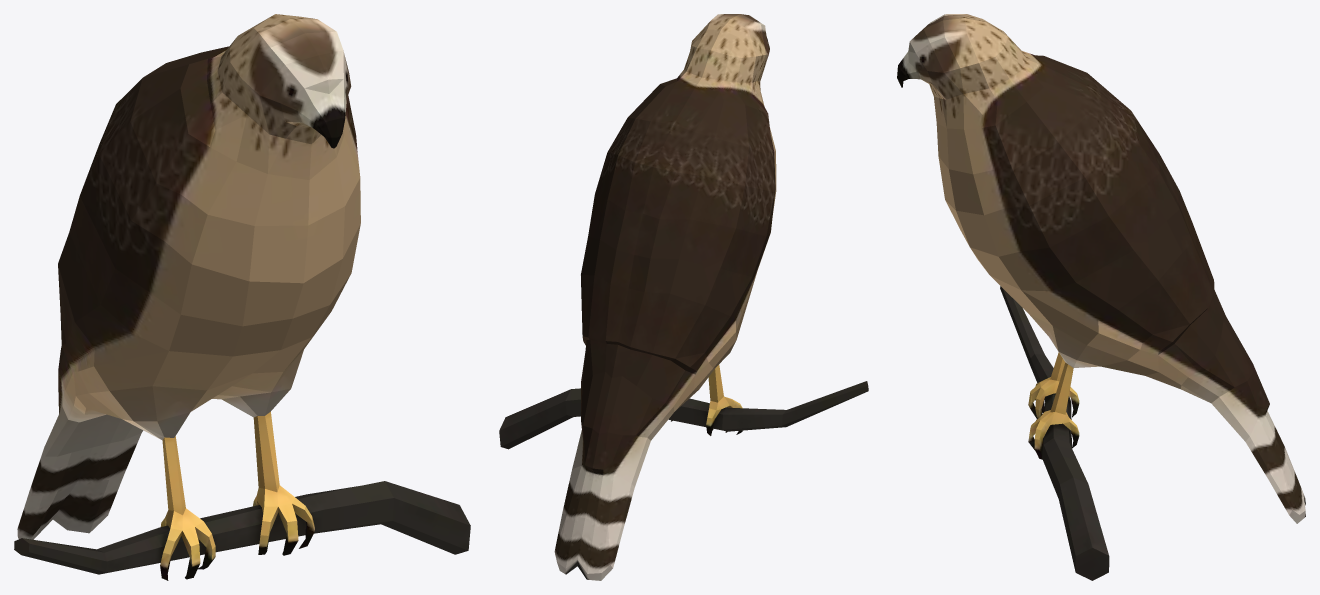
Rendered from animals-marsh-hawk-146.glb.
3 views of the same model, side by side, from view 1: azimuth 30°, elevation 25°; view 2: azimuth 150°, elevation 25°; view 3: azimuth 270°, elevation 25° (orthographic). The views are drawn at different scales.
Visible parts, largest first — view 1: MarshHawk_Mesh; view 2: MarshHawk_Mesh; view 3: MarshHawk_Mesh.
Boxes of the visible parts, x1,y1,x2,y2 form: MarshHawk_Mesh: (14,14,470,580); MarshHawk_Mesh: (499,14,868,580); MarshHawk_Mesh: (897,14,1305,580).
Bounding box in the file's own units: 2.81 × 3.69 × 2.77.
1 material, 1 textured.
